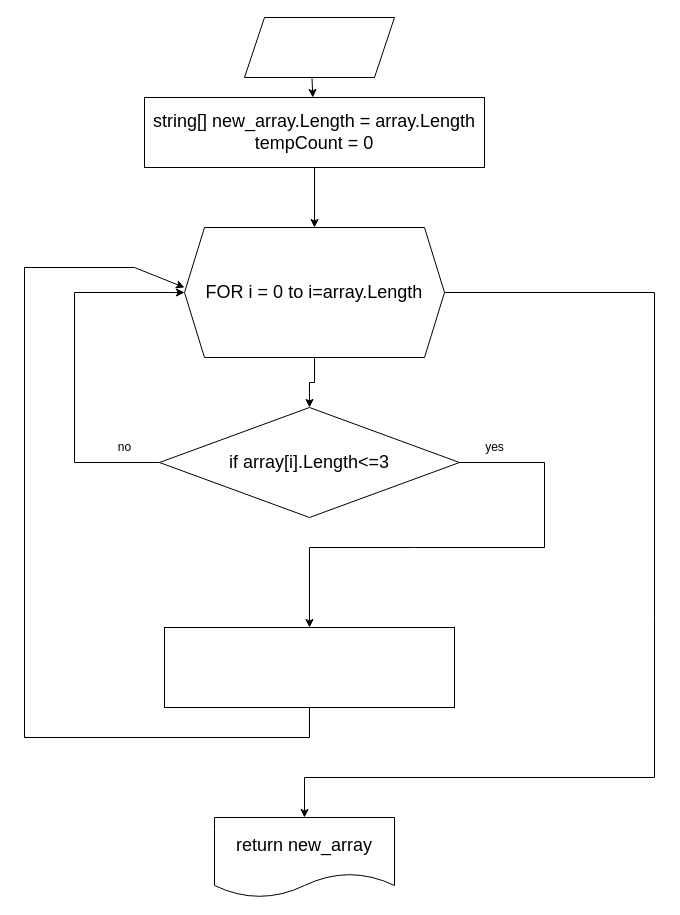
The diagram is 680 pixels wide and 915 high, and some of its shapes have lost their labels. The shapes that lost their labels are listed below. From the top down, each one's centre as x and y in pixels, then its label:
pixel 319 47: string[] array
pixel 309 667: new_array[tempCount] = array[i] tempCount = tempCount + 1
